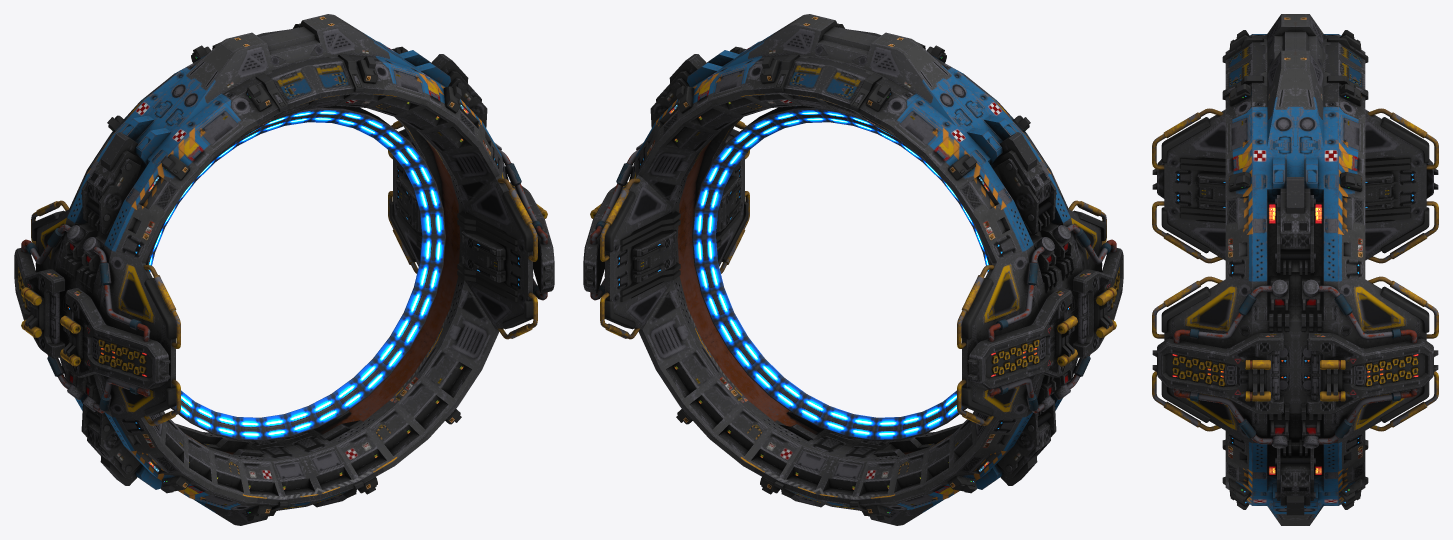
The model's file is JumpGate.glb.
The picture shows the model from 3 angles, left to right: view 1: azimuth 30°, elevation 25°; view 2: azimuth 150°, elevation 25°; view 3: azimuth 270°, elevation 25°; orthographic projection. The views are drawn at different scales.
Parts seen in each view (by area): view 1: Heavy_JumpGate_JG4, Heavy_JumpGate_Ring_JG4; view 2: Heavy_JumpGate_JG4, Heavy_JumpGate_Ring_JG4; view 3: Heavy_JumpGate_JG4.
Boxes of the visible parts, x1,y1,x2,y2 form: Heavy_JumpGate_JG4: (14,14,554,525); Heavy_JumpGate_Ring_JG4: (147,105,445,441); Heavy_JumpGate_JG4: (583,14,1123,525); Heavy_JumpGate_Ring_JG4: (692,105,990,441); Heavy_JumpGate_JG4: (1152,14,1438,525).
Size of the model in its own units: 6916 by 6612 by 3714.
Materials: 1 (1 with a texture image).
